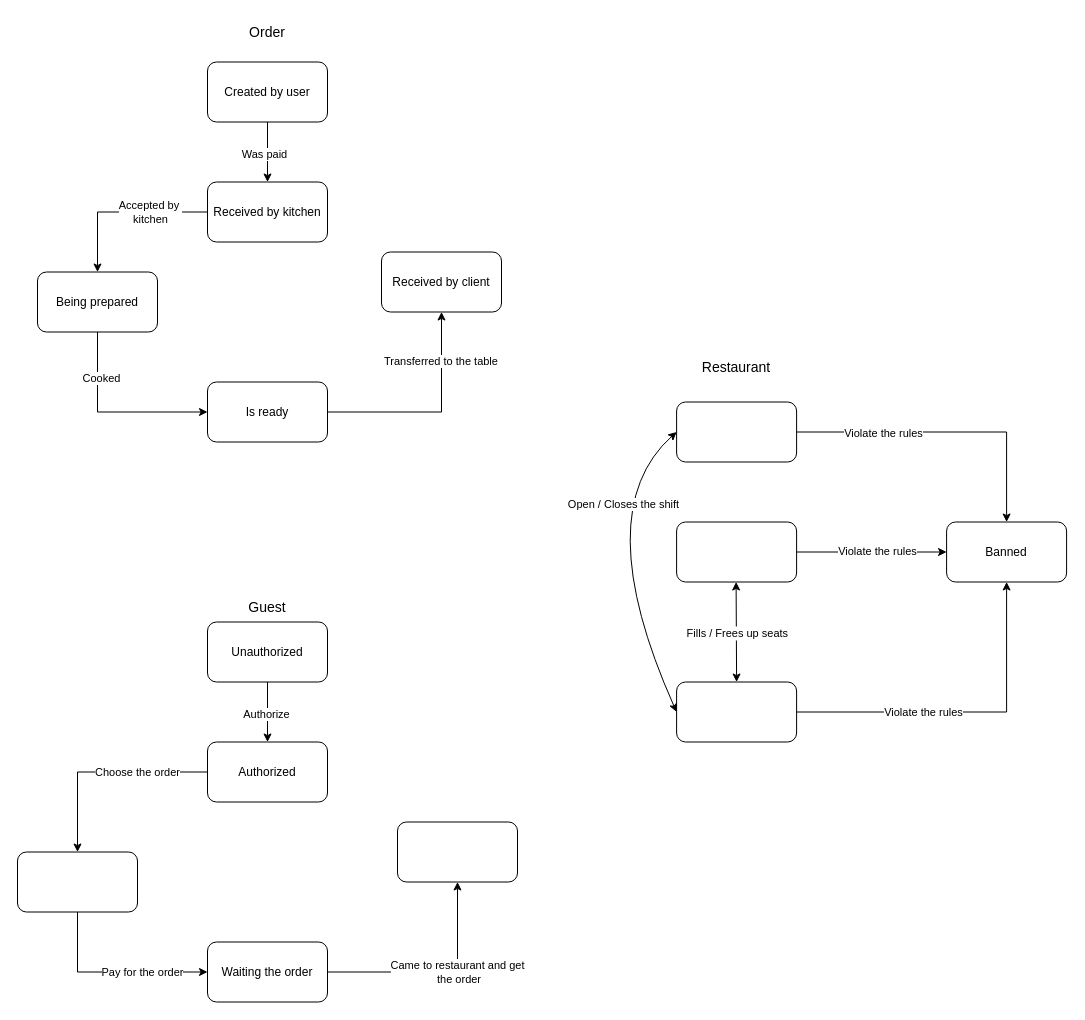
Some shapes in this 1085 by 1020 pixel diagram are drawn without their labels. Here are the shapes that lost their labels. From the top down, the centre of each, then its label:
(736,431): Closed
(736,551): Overloaded
(736,711): Open
(457,851): Received the order
(77,881): Selected the order
